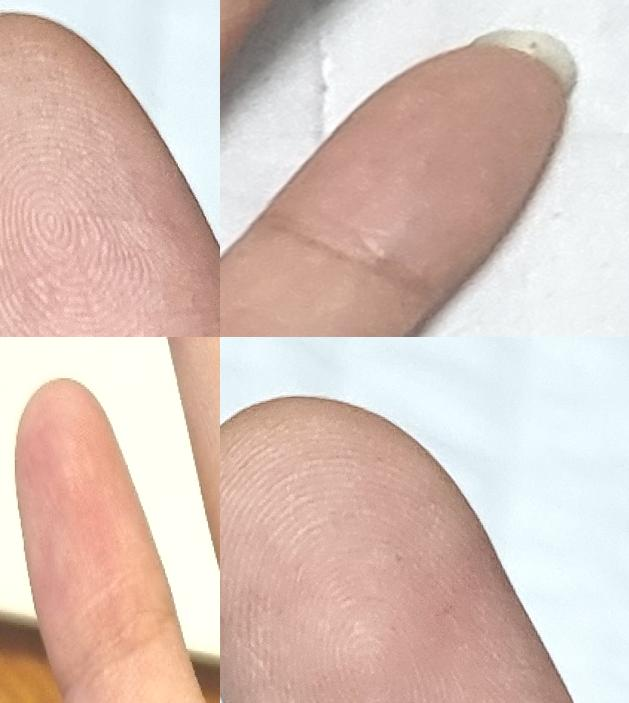Fingerprints: (220, 394, 574, 703), (260, 45, 567, 298), (0, 12, 220, 337), (16, 378, 178, 698)
